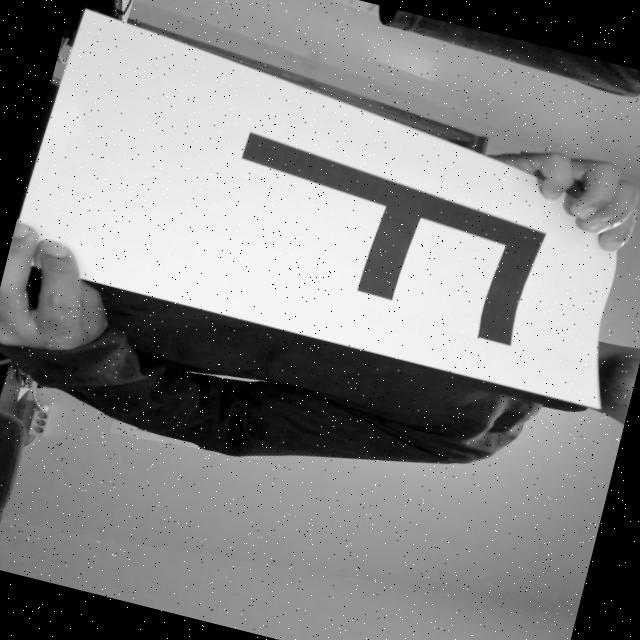f: (174, 114, 570, 362)
